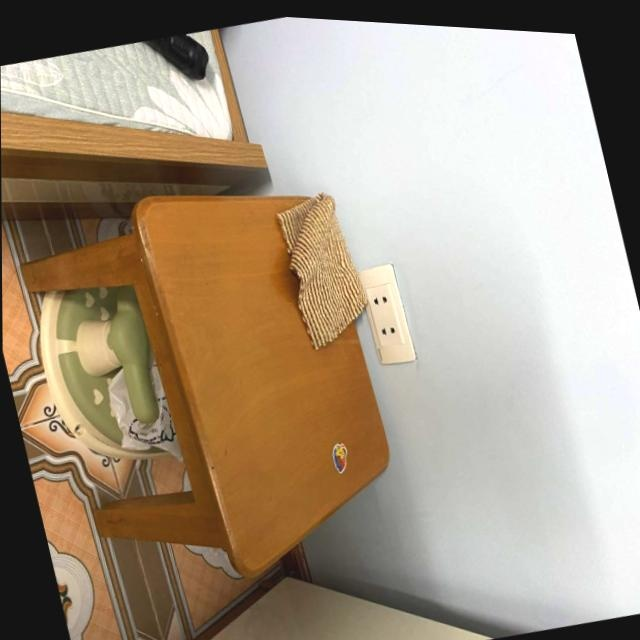outlet: (354, 259, 416, 369)
